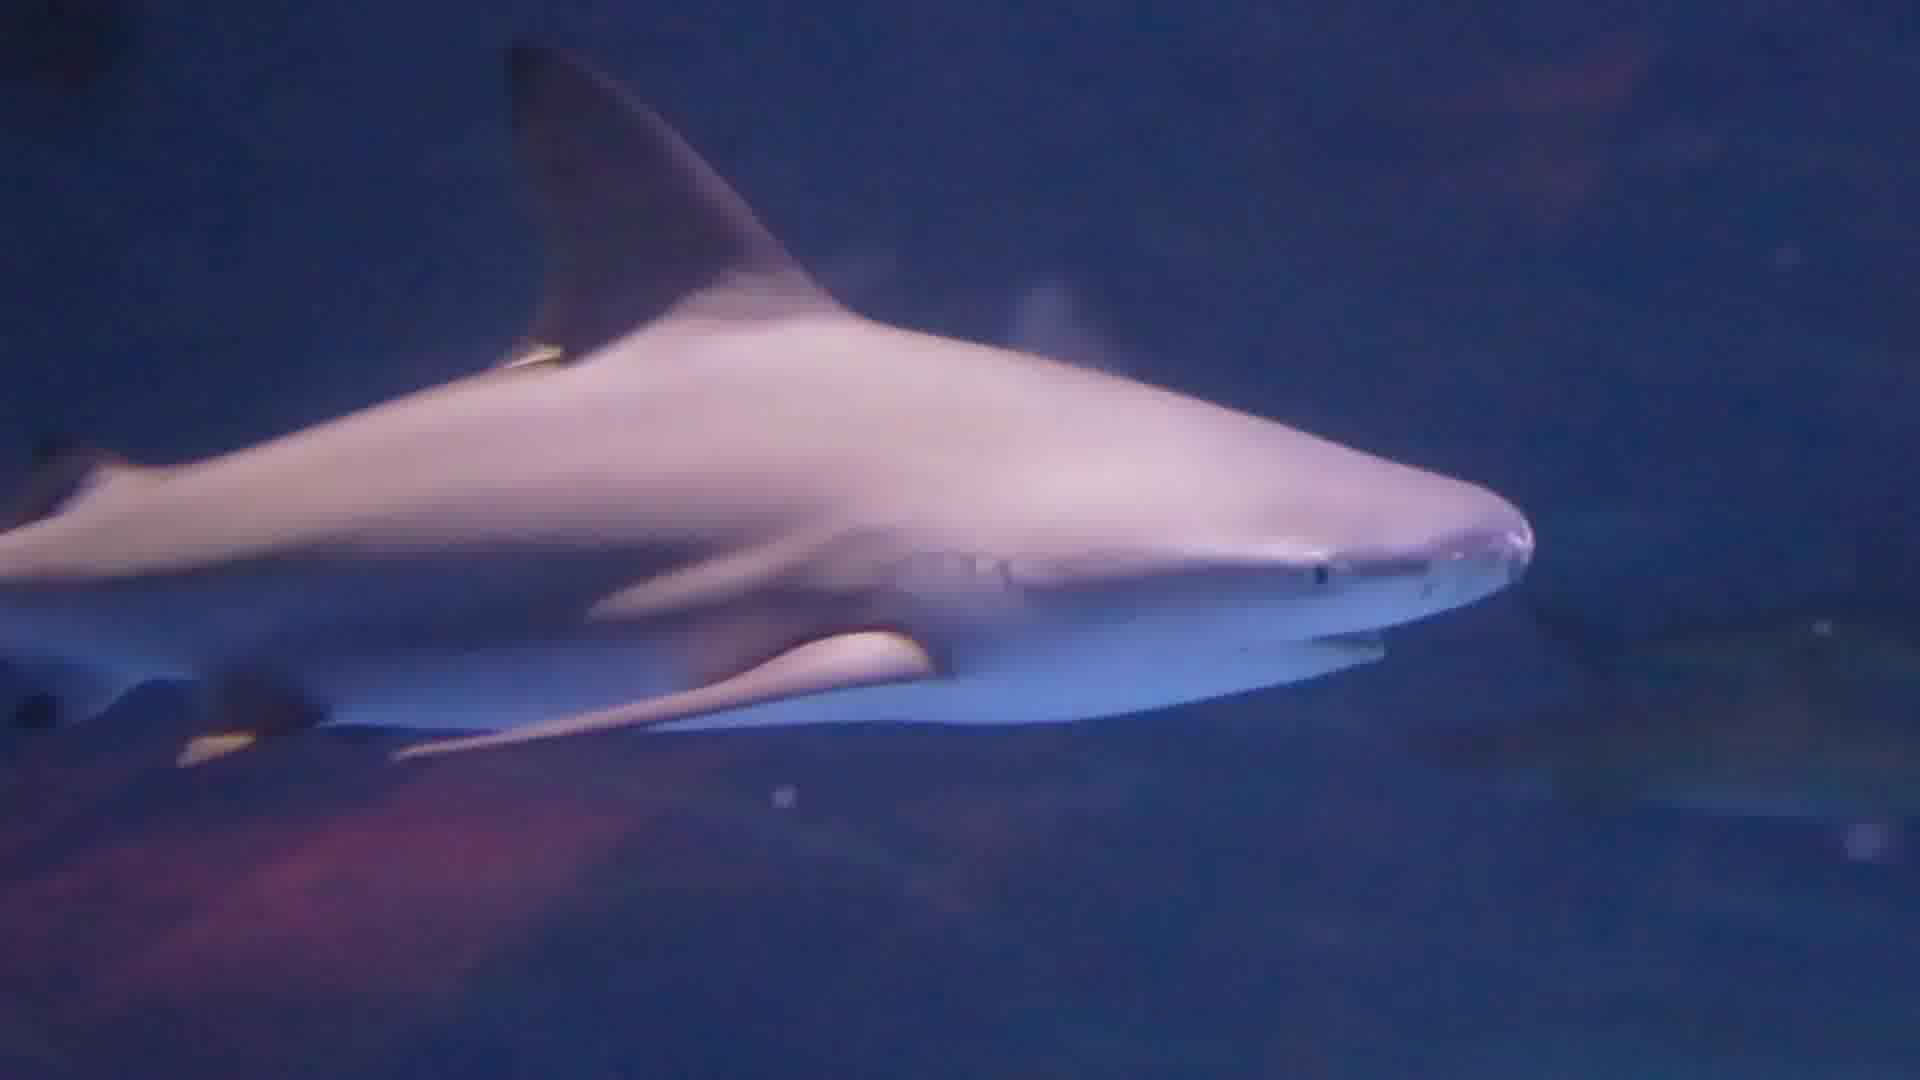Carcharhinus leucas: (8, 73, 1547, 827)
